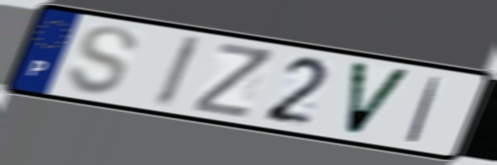2: (263, 55, 330, 130)
I: (150, 33, 206, 111), (403, 73, 445, 145)
S: (64, 23, 141, 97)
V: (344, 58, 415, 140)
Z: (190, 39, 277, 122)
